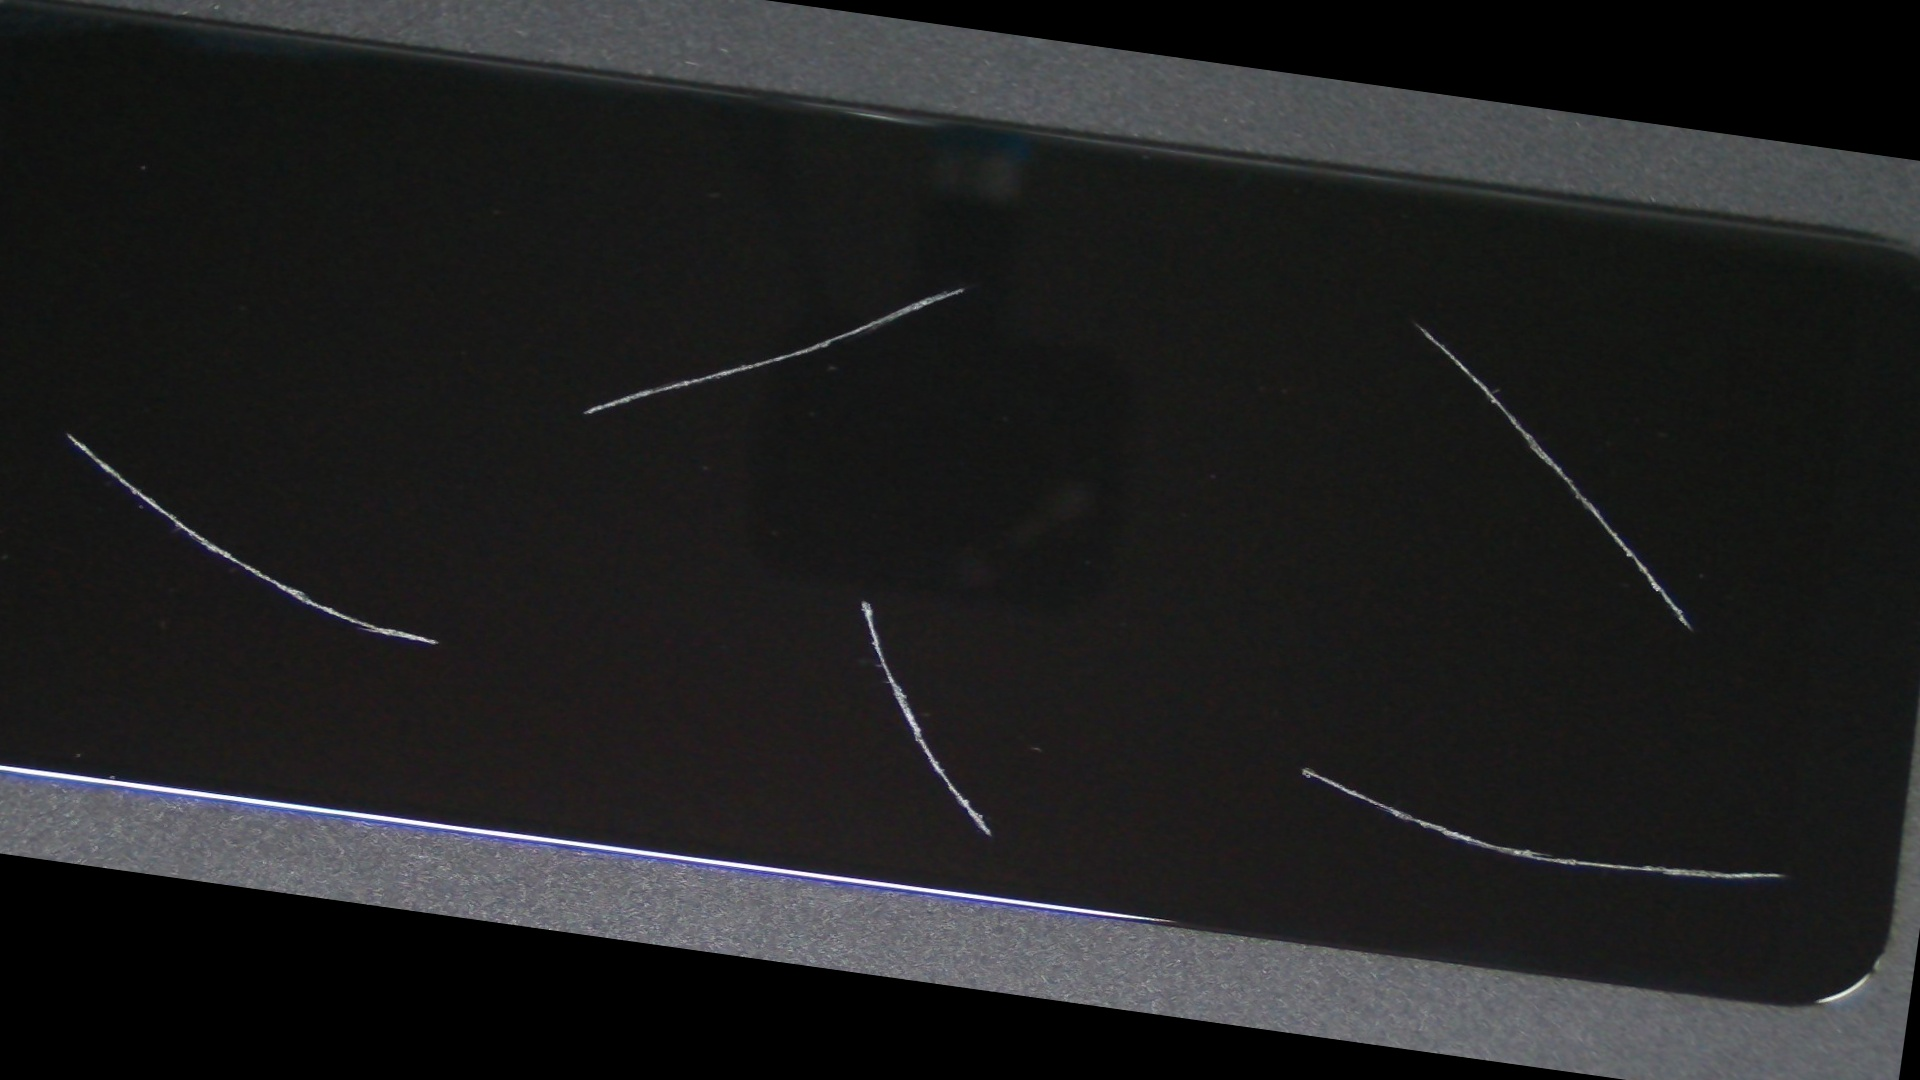oil: (517, 323, 1920, 1080), (301, 240, 1429, 961), (620, 99, 1920, 522), (392, 83, 1528, 493), (0, 156, 227, 711)
